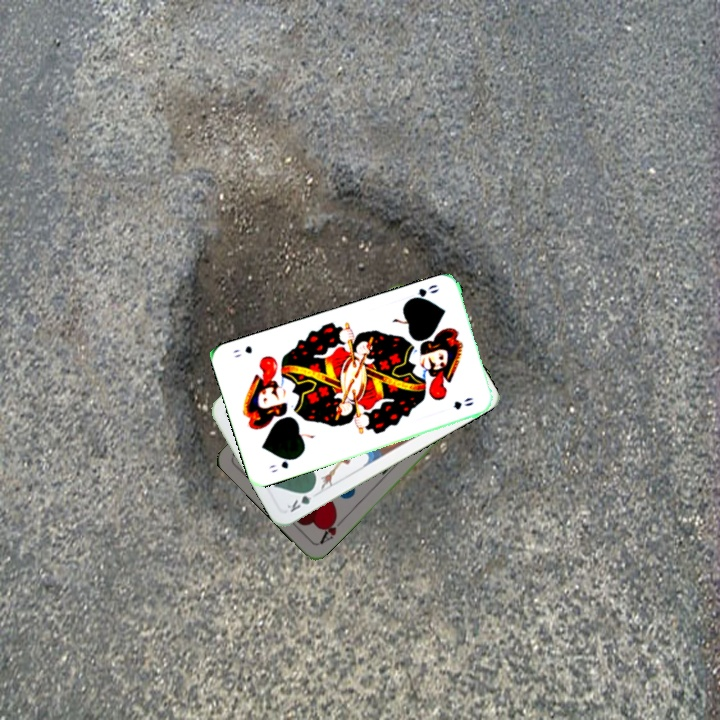GK: (283, 484, 320, 515)
GO: (405, 281, 442, 303), (265, 453, 300, 475)
HA: (315, 511, 347, 547)
